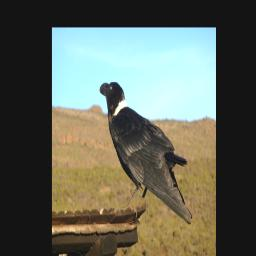Crow: (98, 77, 192, 225)
